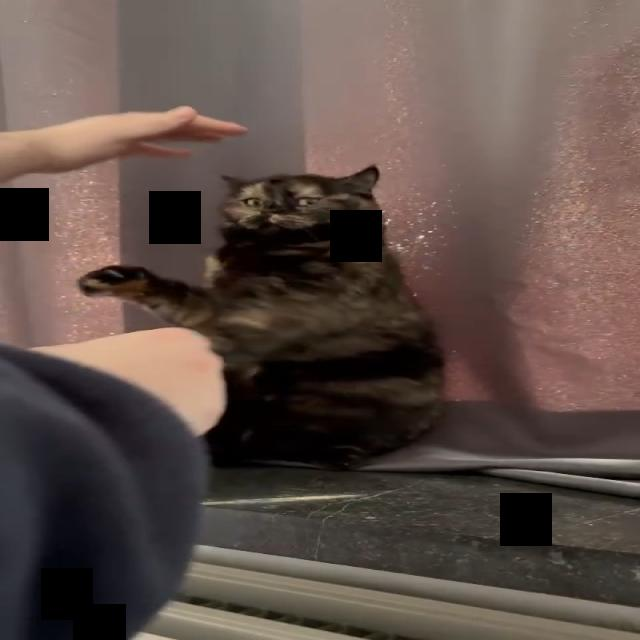authorized: (76, 163, 447, 470)
